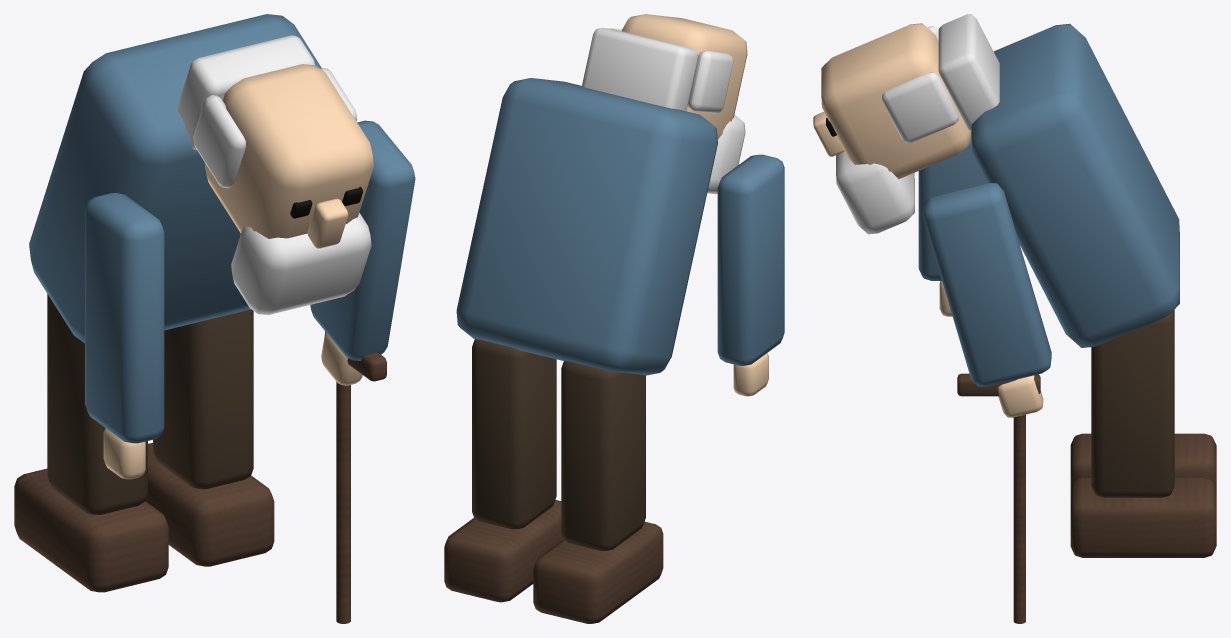
The model's file is velhinho.glb.
3 renders of one model, left to right at view 1: azimuth 30°, elevation 25°; view 2: azimuth 150°, elevation 25°; view 3: azimuth 270°, elevation 25°, orthographic. The views are drawn at different scales.
Visible parts, largest first — view 1: Personagem_Velhinho, Perna_R, Perna_L, Braco_L, Braco_R, Bengala; view 2: Personagem_Velhinho, Perna_L, Perna_R, Braco_L; view 3: Personagem_Velhinho, Perna_R, Braco_R, Braco_L, Bengala, Perna_L.
Boxes of the visible parts, x1,y1,x2,y2 form: Personagem_Velhinho: (29, 14, 373, 343); Perna_R: (145, 309, 274, 566); Perna_L: (14, 294, 168, 592); Braco_L: (85, 193, 164, 479); Braco_R: (310, 120, 415, 385); Bengala: (325, 331, 386, 623); Personagem_Velhinho: (456, 14, 747, 375); Perna_L: (533, 361, 663, 623); Perna_R: (444, 339, 563, 602); Braco_L: (717, 154, 784, 396); Personagem_Velhinho: (813, 14, 1179, 347); Perna_R: (1070, 309, 1216, 557); Braco_R: (923, 182, 1051, 417); Braco_L: (918, 132, 987, 316); Bengala: (957, 373, 1040, 623); Perna_L: (1070, 433, 1216, 488).
Bounding box in the file's own units: 0.7 × 1.41 × 0.9662.
6 materials, 1 textured.
